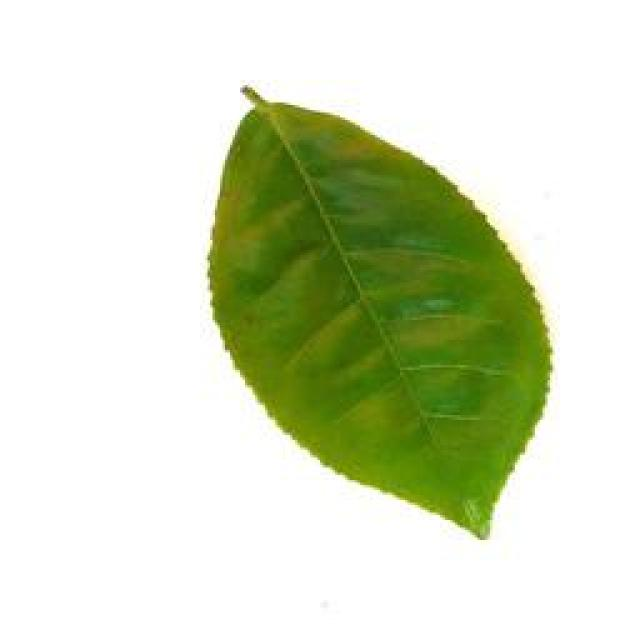Healthy: (195, 66, 557, 568)
